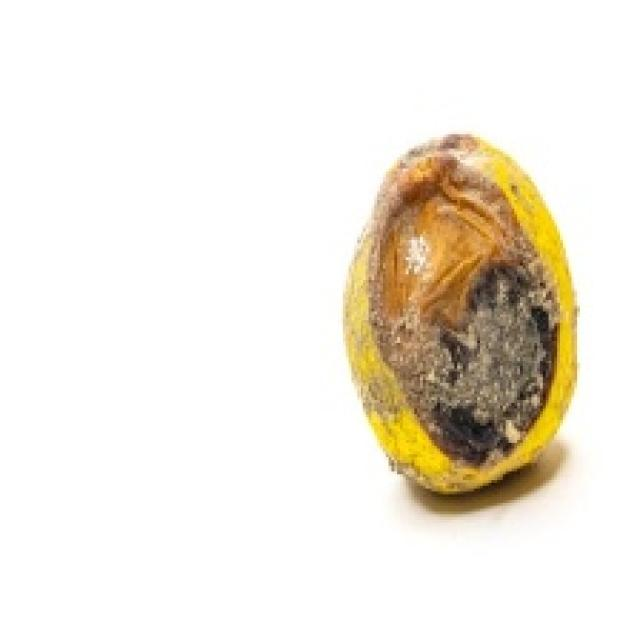rotten_apple: (348, 138, 578, 494)
